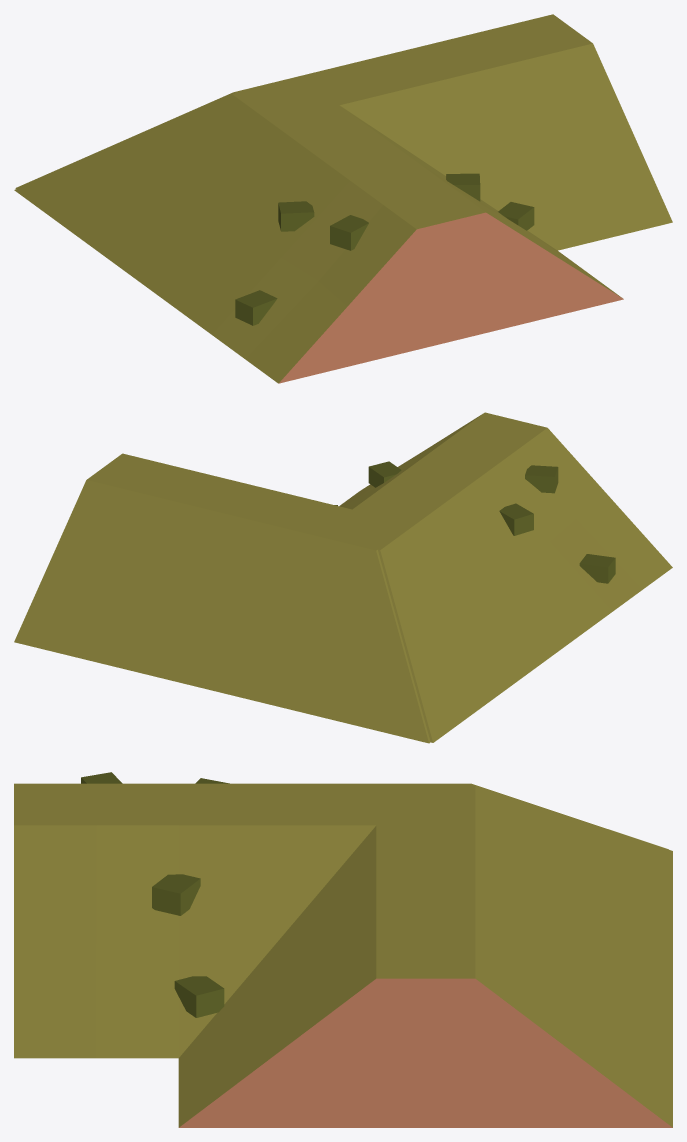
The model's file is SM_TaludDeposito_v3_Esquina_LOD0.fbx.
3 views of the same model, one above another, from view 1: azimuth 30°, elevation 25°; view 2: azimuth 150°, elevation 25°; view 3: azimuth 270°, elevation 25° (orthographic). The views are drawn at different scales.
Visible parts, largest first — view 1: SM_bloques.talud_deposito_v3_LOD0; view 2: SM_bloques.talud_deposito_v3_LOD0; view 3: SM_bloques.talud_deposito_v3_LOD0.
Boxes of the visible parts, x1=… form: SM_bloques.talud_deposito_v3_LOD0: x1=14, y1=14, x2=672, y2=383; SM_bloques.talud_deposito_v3_LOD0: x1=14, y1=412, x2=672, y2=743; SM_bloques.talud_deposito_v3_LOD0: x1=14, y1=772, x2=672, y2=1127.
Size of the model in its own units: 8 by 2 by 8.
